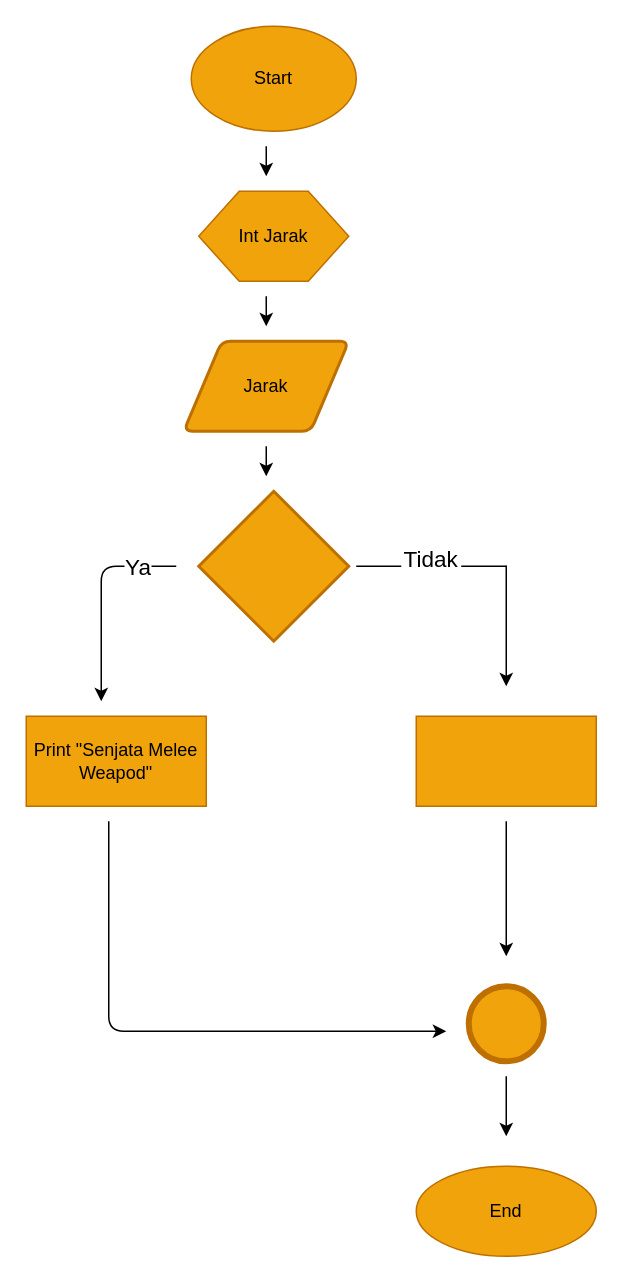
The diagram is 623 pixels wide and 1283 high, and some of its shapes have lost their labels. Each missing label, with the box of its shape:
Jarak <=5: (196, 489, 350, 642)
Print "Senjata Range Weapod": (415, 715, 596, 806)
